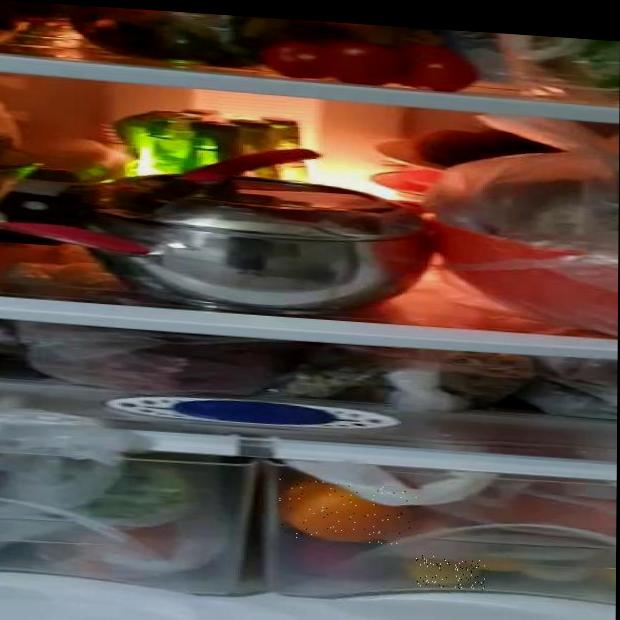lemon: (415, 555, 485, 590)
orange: (278, 479, 417, 546)
